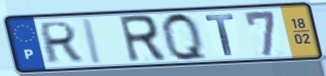7: (242, 9, 280, 58)
I: (79, 17, 105, 67)
Q: (159, 10, 211, 63)
R: (116, 13, 170, 65), (38, 20, 84, 66)
T: (203, 13, 237, 58)
